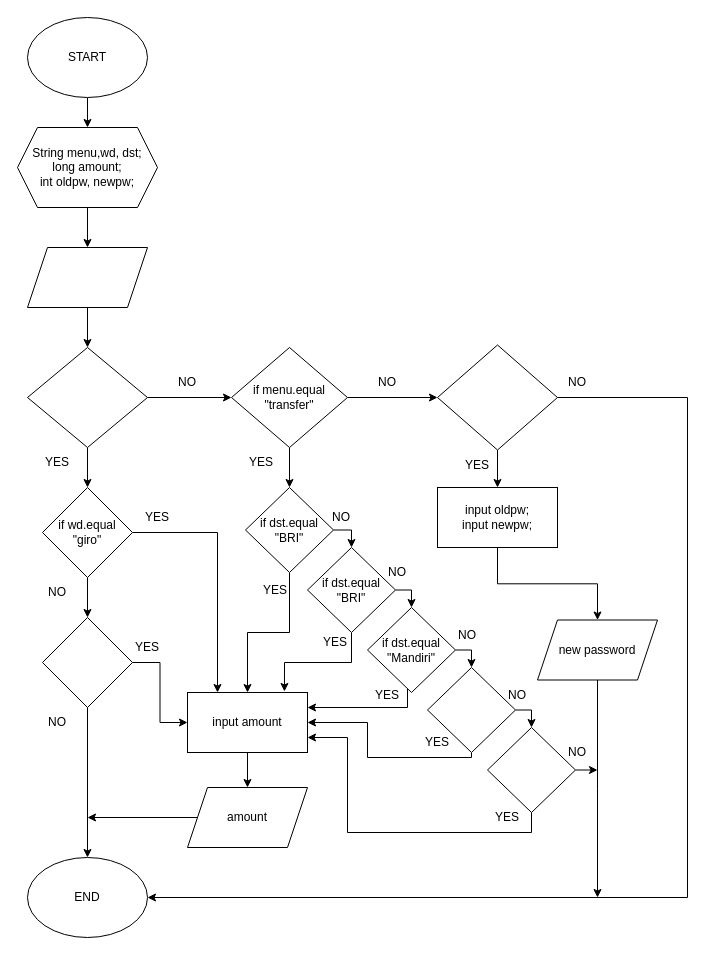
Image size: 713x955. Some labels were removed from this diagram. The box of each missing label's shape, as (x1, y1, x2, y2) in pixels:
if dst.equal "BCA": (486, 726, 576, 812)
if dst.equal "Bukopin": (426, 666, 516, 752)
if menu.equal "changepin": (436, 344, 558, 450)
if menu.equal "withdraw": (26, 346, 148, 448)
if wd.equal "deposito": (42, 616, 132, 708)
input menu: (26, 246, 148, 308)
